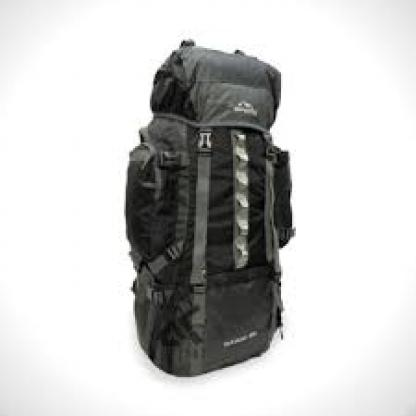morral: (120, 28, 303, 377)
